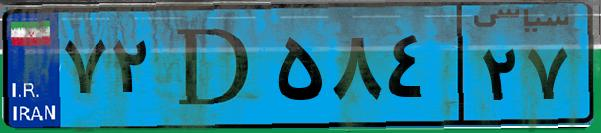2: (475, 38, 525, 113), (110, 28, 158, 98)
4: (385, 28, 445, 110)
5: (270, 28, 330, 110)
7: (57, 26, 110, 100), (525, 38, 570, 115)
8: (330, 28, 385, 110)
D: (158, 12, 270, 120)
